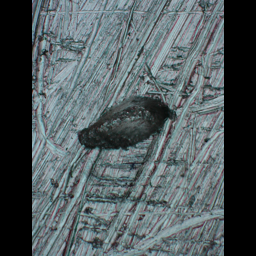d: (74, 94, 180, 154)
